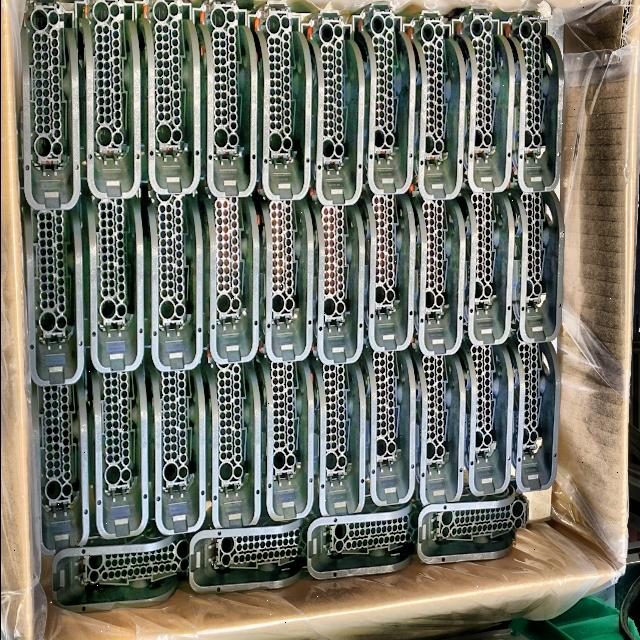P38: (50, 494, 188, 614), (76, 170, 143, 374), (74, 0, 141, 199), (18, 0, 80, 211), (191, 0, 257, 197), (348, 1, 415, 194), (133, 0, 199, 195), (20, 183, 83, 387), (82, 346, 148, 540), (136, 179, 202, 372), (247, 1, 311, 200), (249, 327, 314, 522), (300, 8, 364, 205), (198, 329, 260, 529), (450, 5, 514, 193), (141, 348, 205, 536), (402, 10, 465, 200), (194, 178, 258, 364), (250, 176, 313, 364), (303, 172, 364, 366), (500, 11, 563, 193), (305, 329, 365, 517), (188, 507, 316, 594), (406, 320, 465, 508), (406, 165, 464, 356), (30, 369, 89, 556), (356, 321, 415, 506), (455, 314, 513, 497), (503, 308, 560, 492), (415, 472, 529, 564), (455, 171, 513, 346), (356, 177, 414, 352), (504, 183, 564, 343), (306, 495, 418, 580)
